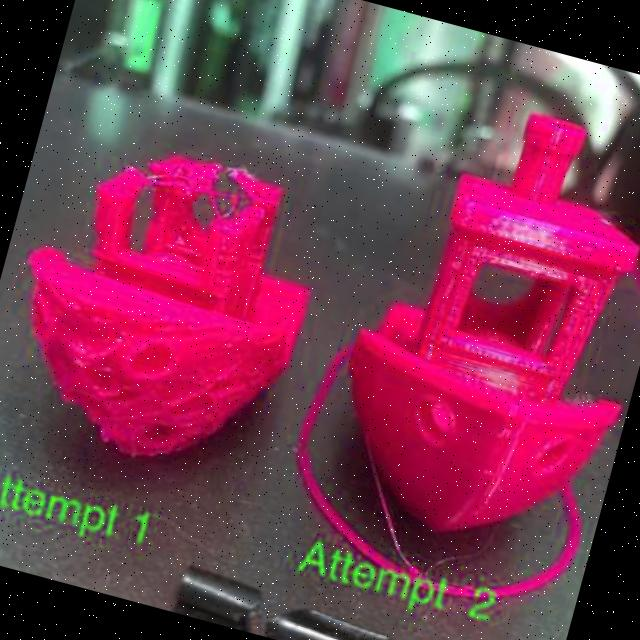spaghetti: (143, 160, 244, 221)
